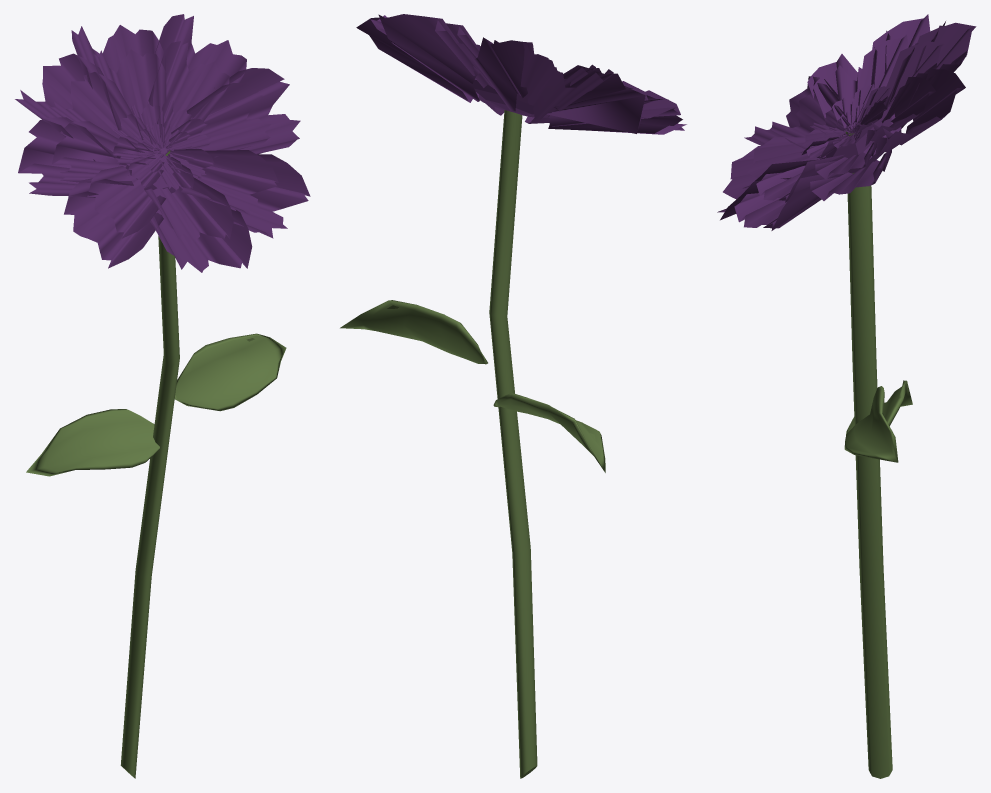
Rendered from carnationPurple.fbx.
3 renders of one model, left to right at view 1: azimuth 30°, elevation 25°; view 2: azimuth 150°, elevation 25°; view 3: azimuth 270°, elevation 25°, orthographic. The views are drawn at different scales.
Visible parts, largest first — view 1: polySurface316; view 2: polySurface316; view 3: polySurface316.
Part boxes in pixels (x1,y1,x2,y2): polySurface316: [15, 14, 310, 778]; polySurface316: [340, 14, 686, 778]; polySurface316: [717, 14, 976, 778].
Bounding box in the file's own units: 1.22 × 2.93 × 0.9236.
